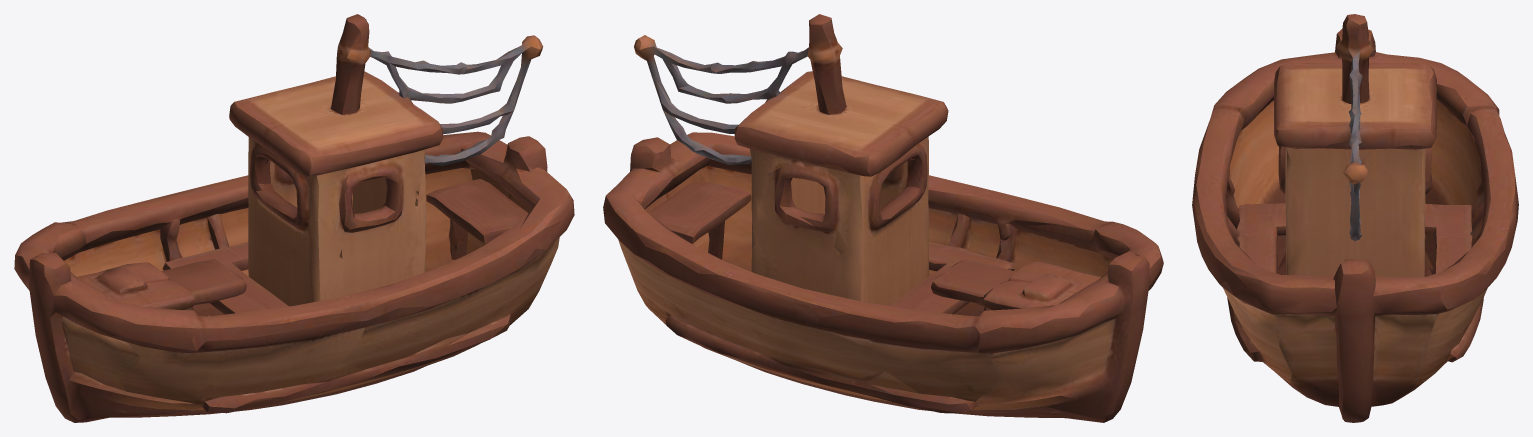
Rendered from a-stout-wooden-fishing-boat-with-74e8ef.glb.
3 views of the same model, side by side, from view 1: azimuth 30°, elevation 25°; view 2: azimuth 150°, elevation 25°; view 3: azimuth 270°, elevation 25° (orthographic).
Parts seen in each view (by area): view 1: geometry_0; view 2: geometry_0; view 3: geometry_0.
Part boxes in pixels (left/top/right/bottom): geometry_0: left=14, top=14, right=574, bottom=422; geometry_0: left=603, top=14, right=1163, bottom=422; geometry_0: left=1192, top=14, right=1518, bottom=422.
Bounding box in the file's own units: 1 × 0.6437 × 0.563.
Materials: 1 (1 with a texture image).
